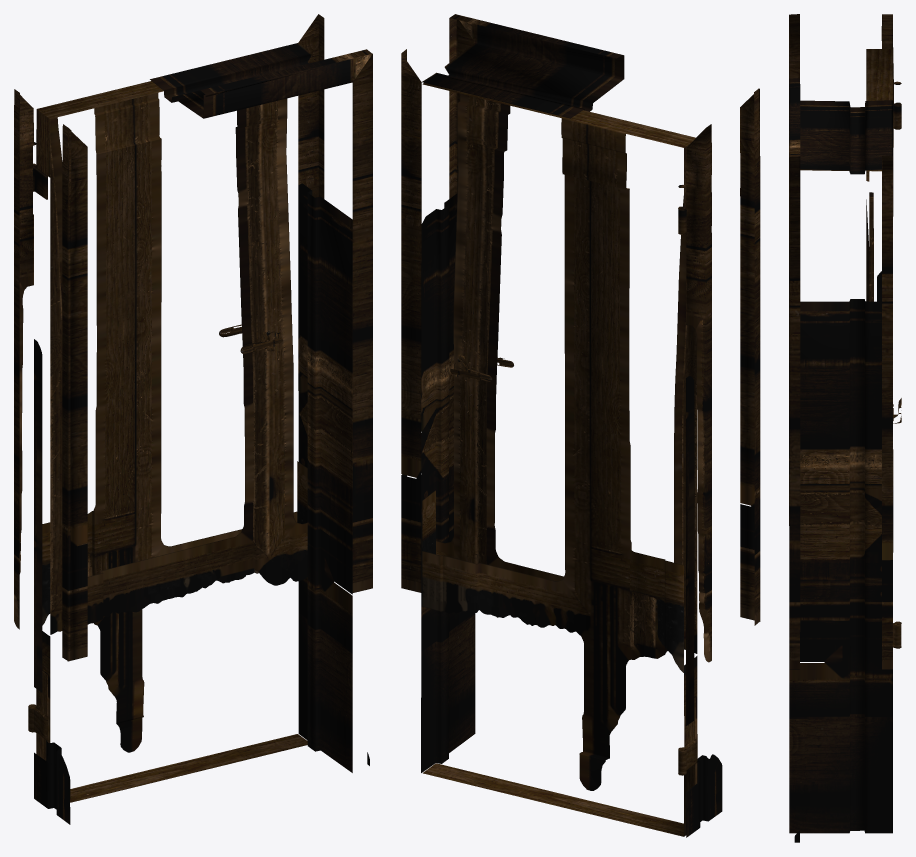
The model's file is Puerta.fbx.
The picture shows the model from 3 angles, left to right: view 1: azimuth 30°, elevation 25°; view 2: azimuth 150°, elevation 25°; view 3: azimuth 270°, elevation 25°; orthographic projection. The views are drawn at different scales.
Visible parts, largest first — view 1: Puerta, Marco_puerta; view 2: Puerta, Marco_puerta; view 3: Marco_puerta, Puerta.
Part boxes in pixels (x1,y1,x2,y2): Puerta: (28,81,307,802); Marco_puerta: (14,14,372,824); Puerta: (422,82,697,836); Marco_puerta: (401,14,760,837); Marco_puerta: (789,14,901,842); Puerta: (866,49,901,648).
Size of the model in its own units: 66.35 by 149 by 22.12.
